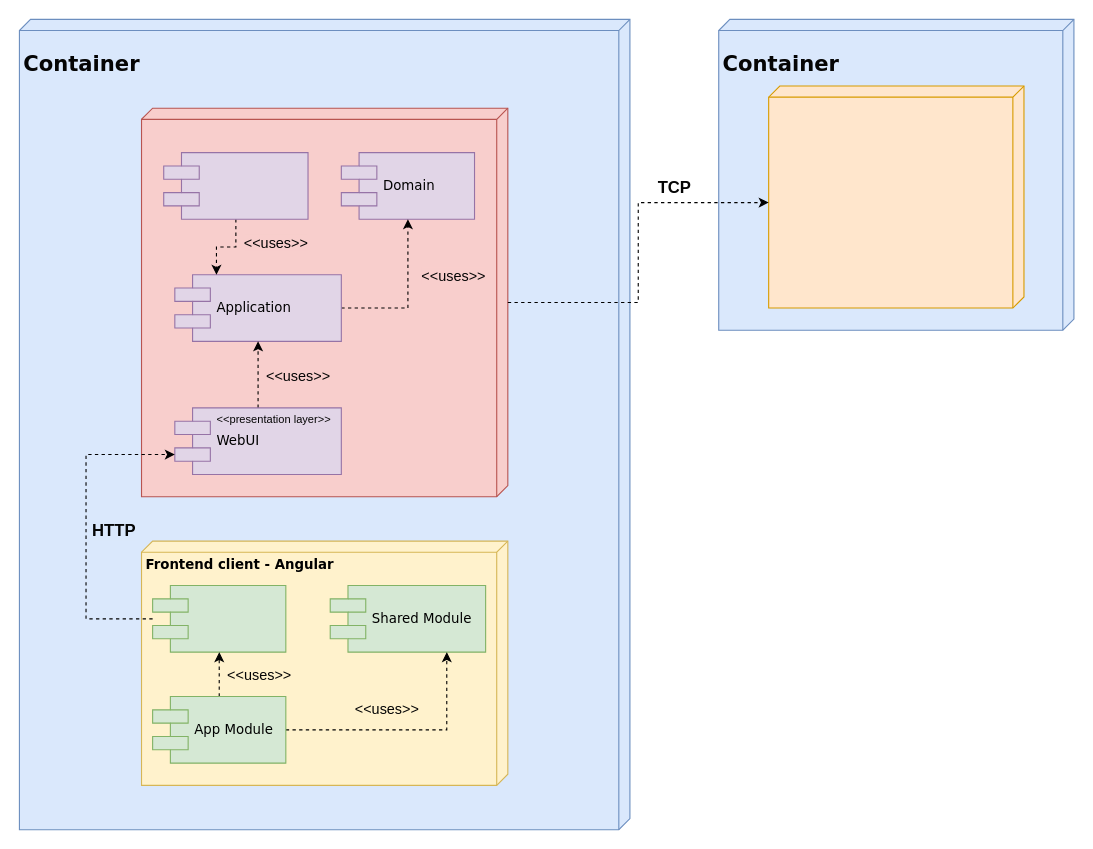
Image size: 1093x849. Some labels were removed from this diagram. Each missing label, with the box of its shape:
API Client: (152, 584, 286, 652)
Backend server - ASP.NET: (140, 107, 508, 497)
Database - PostgreSQL: (768, 85, 1024, 308)
Infrastructure: (163, 152, 308, 219)
